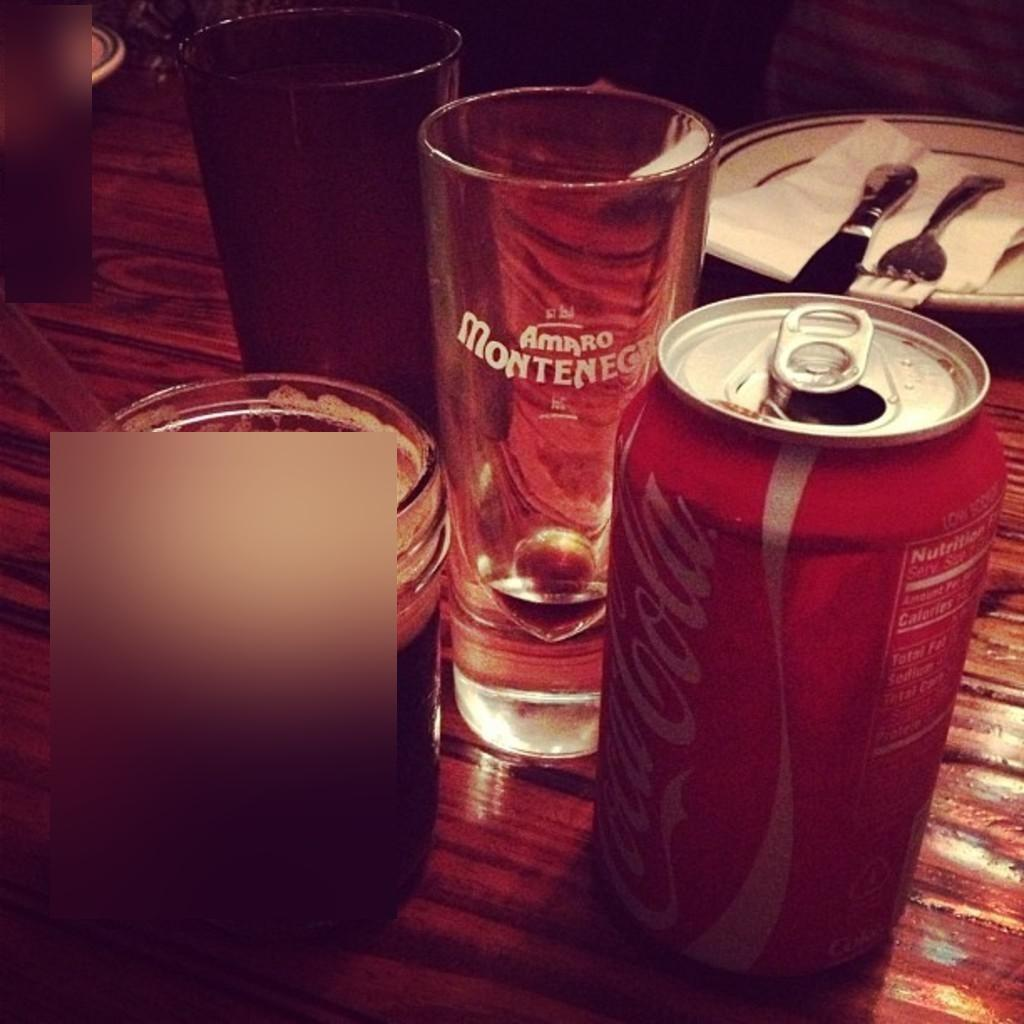glass-normal: (409, 87, 717, 764), (168, 6, 473, 426)
tin can: (581, 294, 1000, 992)
